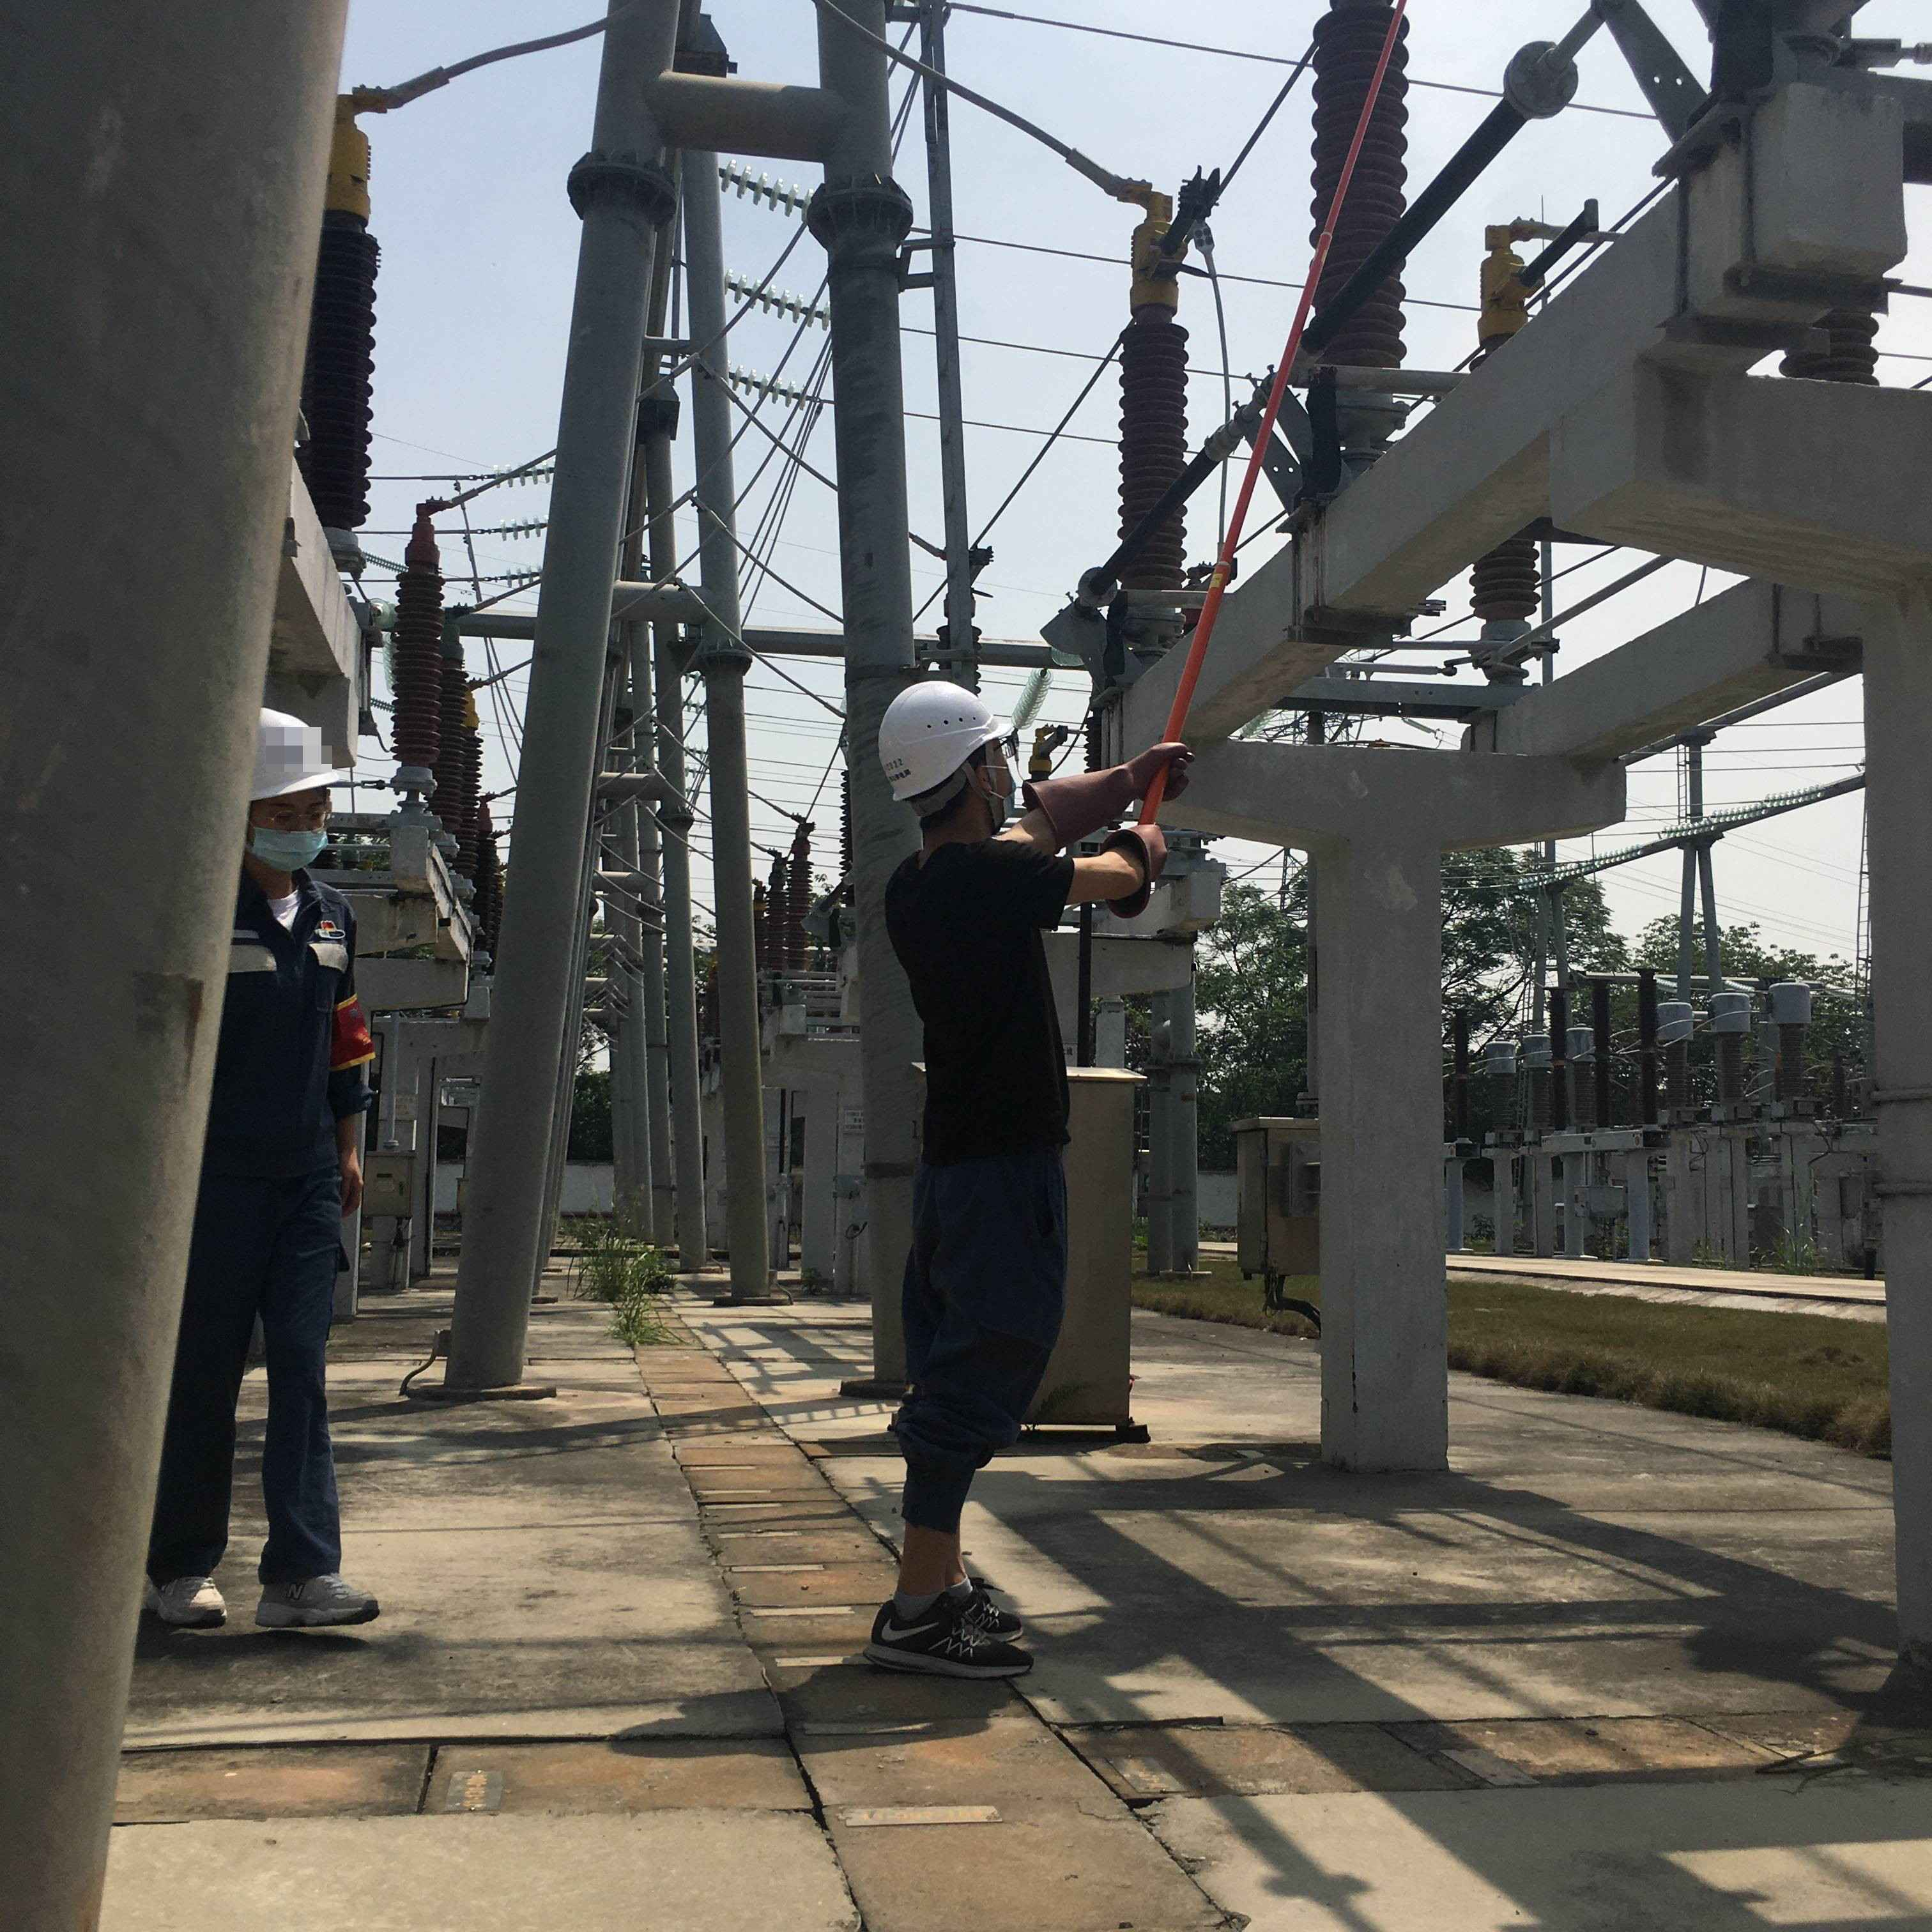downsuit: (862, 1150, 1083, 1539), (168, 1203, 347, 1585)
upcloth: (885, 839, 1088, 1141)
upsuit: (207, 869, 379, 1178)
wrongbottom: (885, 1484, 980, 1608)
